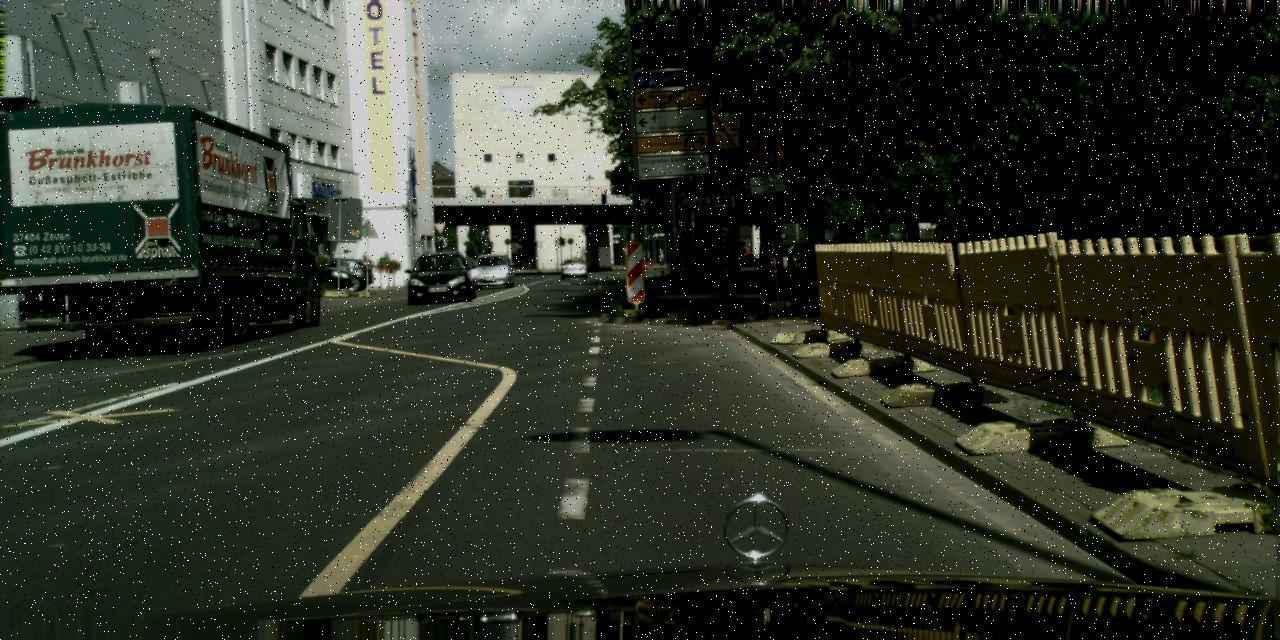ped: (878, 228, 895, 271), (645, 250, 653, 270), (657, 250, 665, 270), (745, 246, 750, 258)
